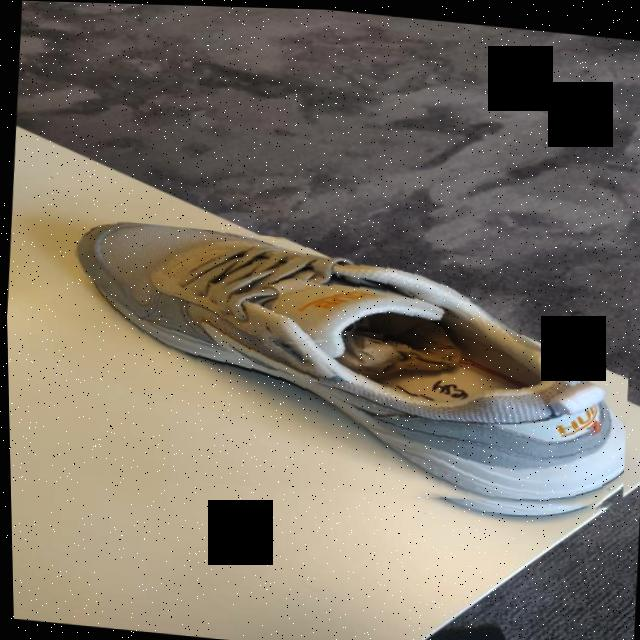shoe: (56, 216, 636, 525)
